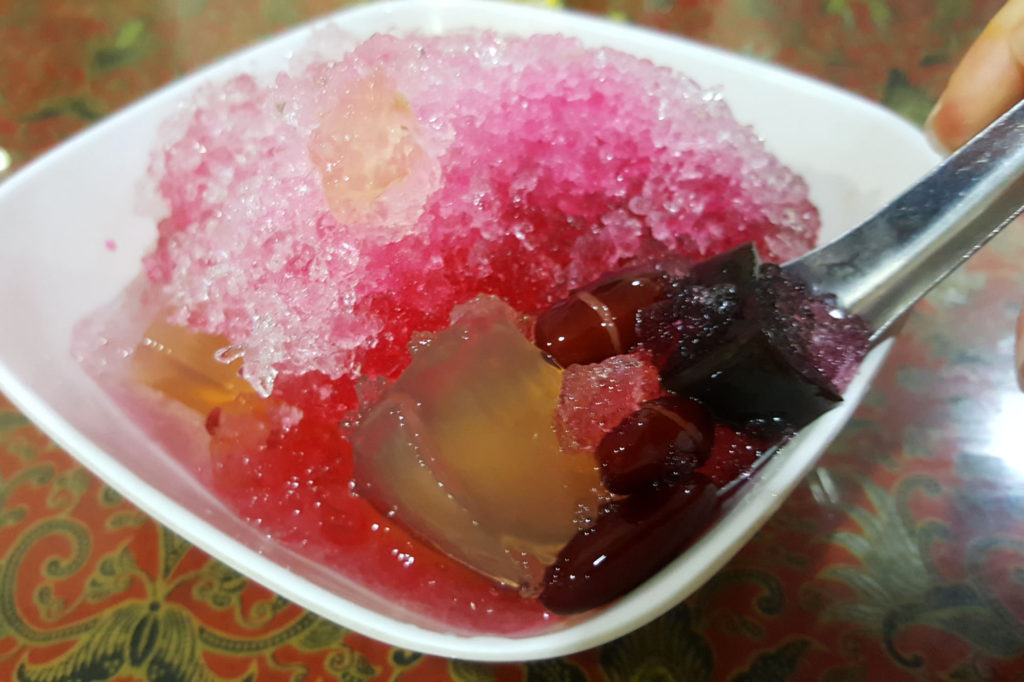O-eo: (40, 4, 964, 632)
